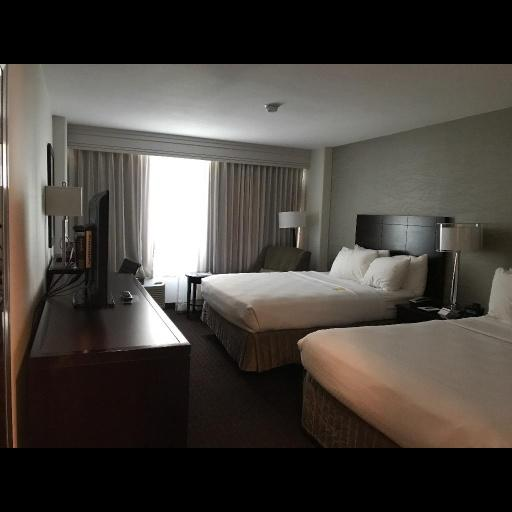clean_bed: (201, 212, 452, 377), (299, 272, 511, 455)
lamp: (441, 217, 485, 318), (39, 183, 85, 272), (278, 207, 310, 247)
organised_pillow: (328, 241, 428, 297)
organized table: (23, 263, 195, 456)
